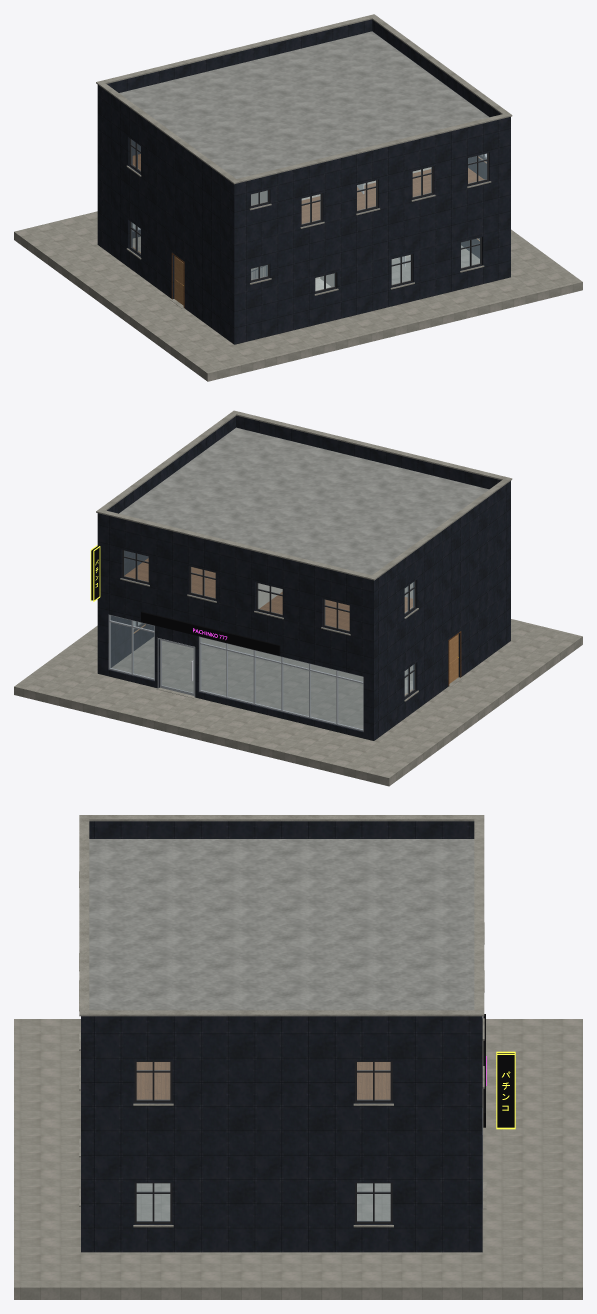
File: b_pachinko_parlor.gltf
3 views of the same model, one above another, from view 1: azimuth 30°, elevation 25°; view 2: azimuth 150°, elevation 25°; view 3: azimuth 270°, elevation 25° (orthographic). The views are drawn at different scales.
Parts seen in each view (by area): view 1: S_pachinko_parlor; view 2: S_pachinko_parlor, D_pachinko_parlor_F1_S2_Door0; view 3: S_pachinko_parlor.
Part boxes in pixels (bbox=[...]): S_pachinko_parlor: bbox=[14, 14, 582, 381]; S_pachinko_parlor: bbox=[14, 410, 582, 786]; D_pachinko_parlor_F1_S2_Door0: bbox=[160, 639, 194, 695]; S_pachinko_parlor: bbox=[14, 815, 582, 1299].
Size of the model in its own units: 19 by 8.26 by 17.
22 materials, 11 textured.
